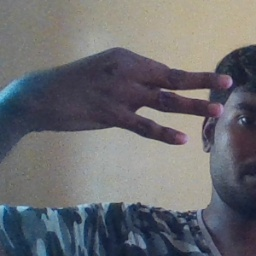K: (43, 46, 235, 146)
